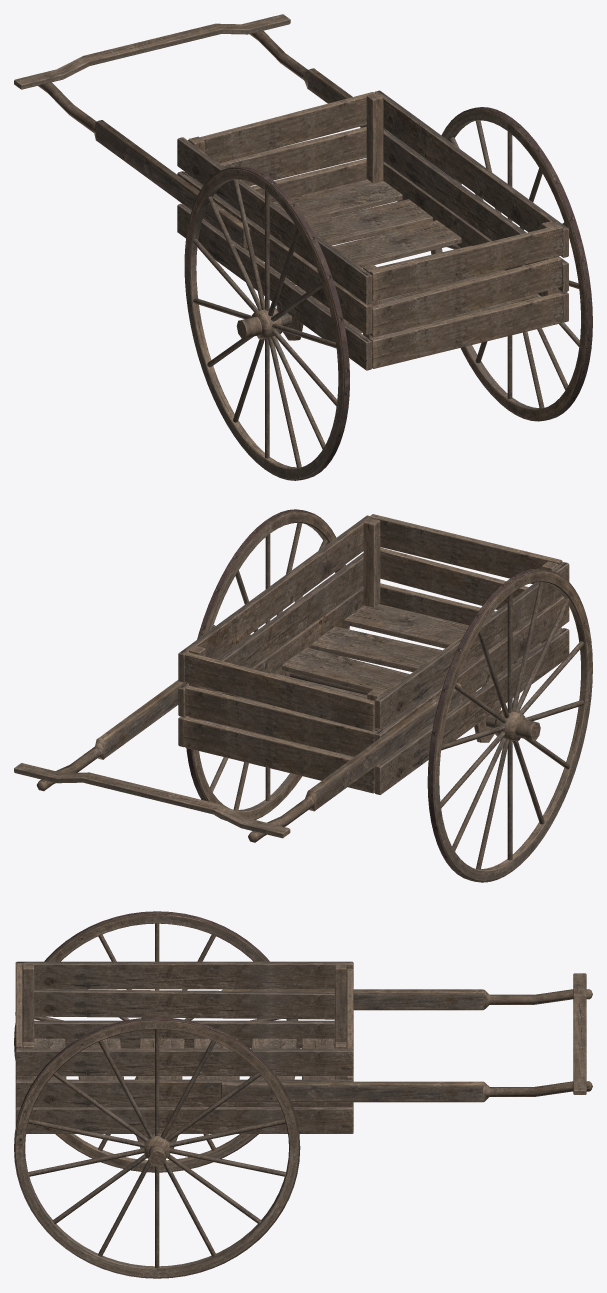
The model's file is Handcart.fbx.
3 renders of one model, top to bottom at view 1: azimuth 30°, elevation 25°; view 2: azimuth 150°, elevation 25°; view 3: azimuth 270°, elevation 25°, orthographic. The views are drawn at different scales.
Parts seen in each view (by area): view 1: Handcart.001; view 2: Handcart.001; view 3: Handcart.001.
Boxes of the visible parts, bbox=[...] form: Handcart.001: bbox=[14, 14, 592, 480]; Handcart.001: bbox=[14, 509, 592, 882]; Handcart.001: bbox=[14, 911, 592, 1278].
Bounding box in the file's own units: 1.42 × 1.34 × 2.71.
Materials: 1 (1 with a texture image).
